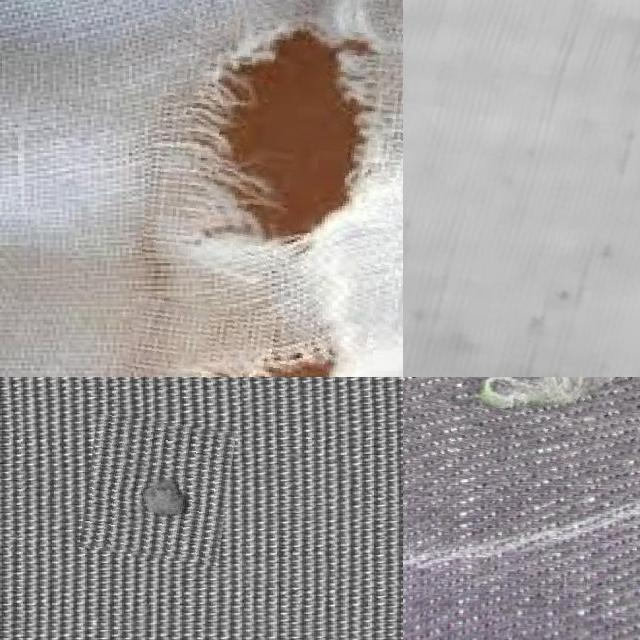other: (148, 0, 403, 277), (82, 418, 230, 562), (111, 300, 361, 377)
stains: (403, 377, 640, 485)
